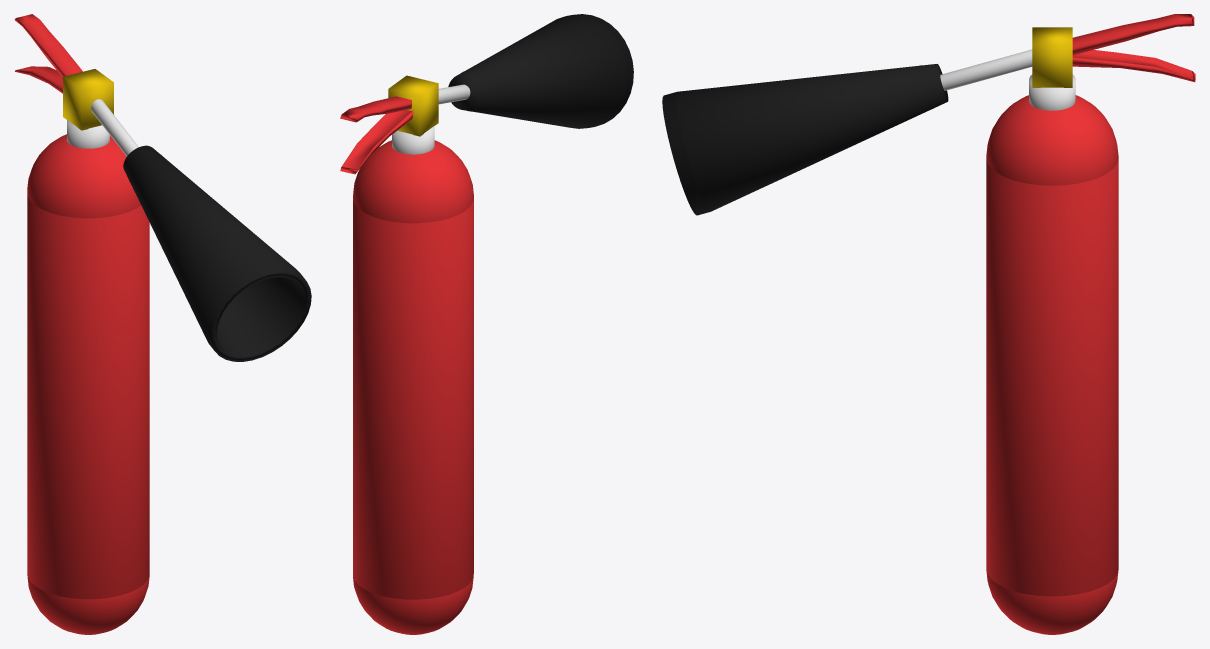
The model's file is extinguisher1.fbx_Scene.fbx.
3 renders of one model, left to right at view 1: azimuth 30°, elevation 25°; view 2: azimuth 150°, elevation 25°; view 3: azimuth 270°, elevation 25°, orthographic. The views are drawn at different scales.
Parts seen in each view (by area): view 1: Цилиндр, Цилиндр.002, Сфера.001, Сфера, Куб, Куб.002, Цилиндр.003, Цилиндр.001, Куб.001; view 2: Цилиндр, Цилиндр.002, Сфера.001, Сфера, Куб, Куб.001, Куб.002, Цилиндр.001, Цилиндр.003; view 3: Цилиндр, Цилиндр.002, Сфера.001, Сфера, Куб, Куб.002, Куб.001, Цилиндр.003, Цилиндр.001.
Part boxes in pixels (left/top/right/bottom): Цилиндр: left=27, top=194, right=149, bottom=599; Цилиндр.002: left=123, top=145, right=311, bottom=361; Сфера.001: left=27, top=134, right=141, bottom=218; Сфера: left=27, top=576, right=149, bottom=634; Куб: left=63, top=69, right=113, bottom=130; Куб.002: left=14, top=14, right=82, bottom=77; Цилиндр.003: left=91, top=99, right=138, bottom=156; Цилиндр.001: left=67, top=120, right=109, bottom=148; Куб.001: left=15, top=66, right=62, bottom=93; Цилиндр: left=353, top=197, right=473, bottom=599; Цилиндр.002: left=448, top=14, right=633, bottom=128; Сфера.001: left=353, top=140, right=473, bottom=223; Сфера: left=353, top=577, right=473, bottom=634; Куб: left=388, top=75, right=438, bottom=136; Куб.001: left=340, top=110, right=413, bottom=174; Куб.002: left=340, top=96, right=411, bottom=122; Цилиндр.001: left=392, top=126, right=434, bottom=154; Цилиндр.003: left=438, top=84, right=470, bottom=104; Цилиндр: left=986, top=158, right=1118, bottom=596; Цилиндр.002: left=662, top=64, right=948, bottom=215; Сфера.001: left=986, top=95, right=1118, bottom=185; Сфера: left=986, top=569, right=1118, bottom=634; Куб: left=1032, top=27, right=1072, bottom=87; Куб.002: left=1072, top=14, right=1194, bottom=55; Куб.001: left=1072, top=50, right=1195, bottom=82; Цилиндр.003: left=940, top=49, right=1032, bottom=90; Цилиндр.001: left=1029, top=74, right=1075, bottom=110.
Bounding box in the file's own units: 200 × 1017 × 805.
